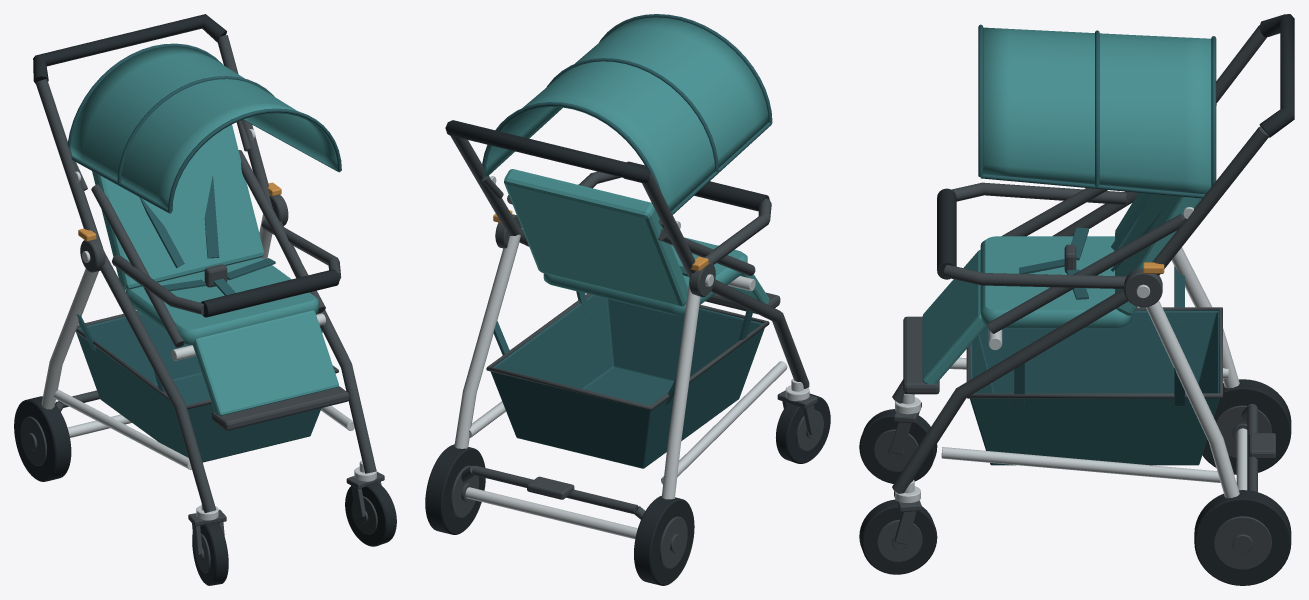
The model's file is city-open-baby-stroller.glb.
3 views of the same model, side by side, from view 1: azimuth 30°, elevation 25°; view 2: azimuth 150°, elevation 25°; view 3: azimuth 270°, elevation 25° (orthographic). The views are drawn at different scales.
Visible parts, largest first — view 1: Assembly | Muted teal woven textile, Assembly | Graphite frame fittings, Assembly | Dark textile bound edges, Assembly | Charcoal rubber wheels and grips, Assembly | Brushed satin aluminum; view 2: Assembly | Muted teal woven textile, Assembly | Dark textile bound edges, Assembly | Graphite frame fittings, Assembly | Charcoal rubber wheels and grips, Assembly | Brushed satin aluminum; view 3: Assembly | Muted teal woven textile, Assembly | Dark textile bound edges, Assembly | Graphite frame fittings, Assembly | Charcoal rubber wheels and grips, Assembly | Brushed satin aluminum.
Boxes of the visible parts, x1,y1,x2,y2 form: Assembly | Muted teal woven textile: (70,46,338,415); Assembly | Graphite frame fittings: (20,35,384,572); Assembly | Dark textile bound edges: (67,43,341,462); Assembly | Charcoal rubber wheels and grips: (14,14,396,585); Assembly | Brushed satin aluminum: (41,129,376,520); Assembly | Muted teal woven textile: (485,17,769,315); Assembly | Dark textile bound edges: (482,14,772,468); Assembly | Graphite frame fittings: (450,135,823,568); Assembly | Charcoal rubber wheels and grips: (425,120,830,585); Assembly | Brushed satin aluminum: (454,176,809,539); Assembly | Muted teal woven textile: (922,27,1211,384); Assembly | Dark textile bound edges: (970,24,1219,465); Assembly | Graphite frame fittings: (874,25,1275,569); Assembly | Charcoal rubber wheels and grips: (859,14,1294,585); Assembly | Brushed satin aluminum: (895,207,1247,502).
Size of the model in its own units: 0.606 by 1.11 by 0.897.
